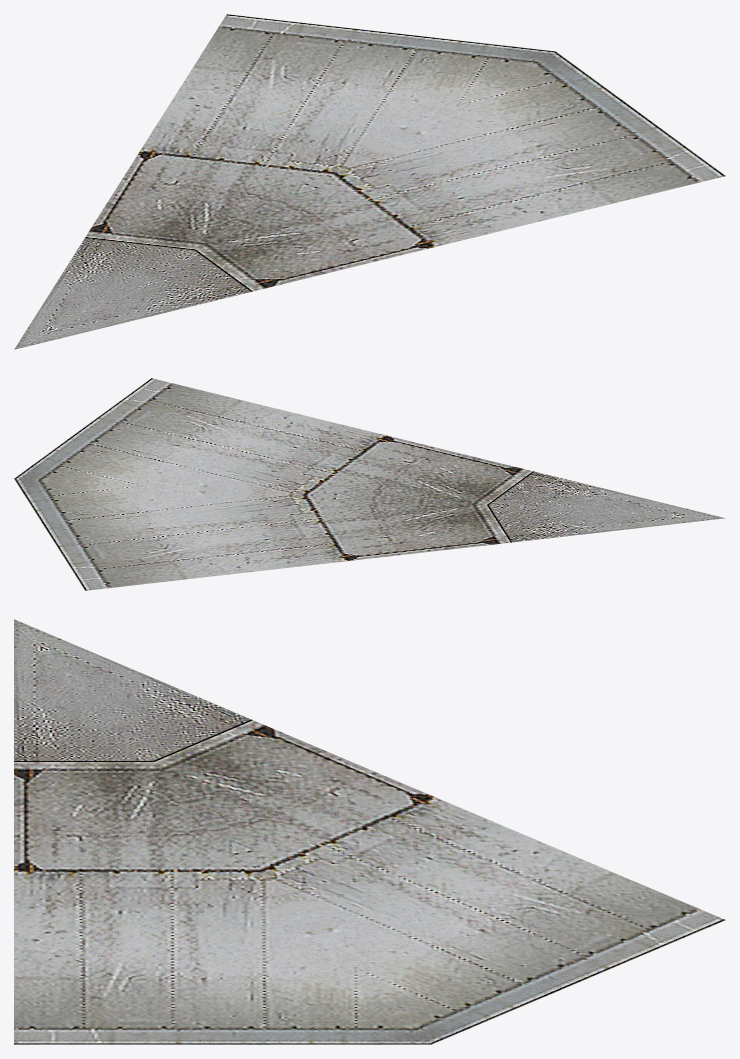
Rendered from Ceiling_C_09.fbx.
3 renders of one model, top to bottom at view 1: azimuth 30°, elevation 25°; view 2: azimuth 150°, elevation 25°; view 3: azimuth 270°, elevation 25°, orthographic. The views are drawn at different scales.
Visible parts, largest first — view 1: Ceiling_C_09; view 2: Ceiling_C_09; view 3: Ceiling_C_09.
Boxes of the visible parts, x1,y1,x2,y2 form: Ceiling_C_09: (14, 14, 725, 349); Ceiling_C_09: (14, 378, 724, 590); Ceiling_C_09: (14, 619, 725, 1044).
Size of the model in its own units: 300 by 0.00537 by 212.
Materials: 1 (1 with a texture image).
